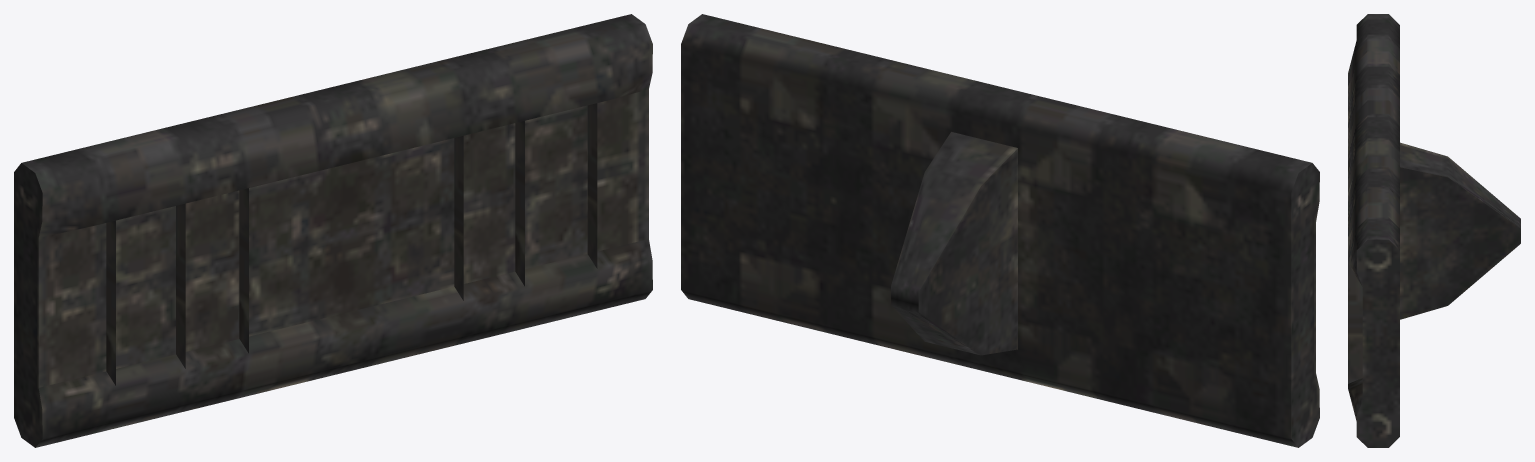
3 renders of one model, left to right at view 1: azimuth 30°, elevation 25°; view 2: azimuth 150°, elevation 25°; view 3: azimuth 270°, elevation 25°, orthographic. The views are drawn at different scales.
Visible parts, largest first — view 1: set_0_group_0; view 2: set_0_group_0; view 3: set_0_group_0.
Part boxes in pixels (<box>): set_0_group_0: <box>14,14,652,447</box>; set_0_group_0: <box>681,14,1319,447</box>; set_0_group_0: <box>1348,14,1520,447</box>.
Size of the model in its own units: 0.499 by 0.2148 by 0.1614.
1 material, 1 textured.
